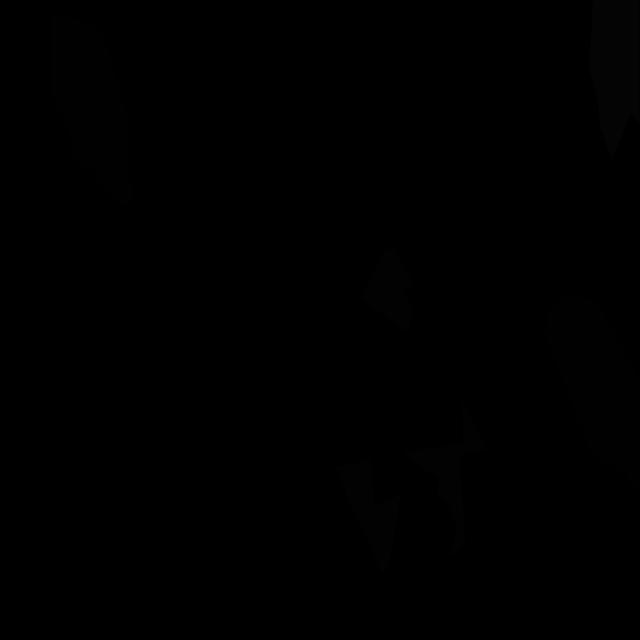cardboard: (402, 398, 487, 557), (335, 458, 401, 573), (360, 248, 415, 333)
rigid_plastic: (546, 293, 640, 488), (51, 15, 134, 207)
soft_plastic: (589, 0, 640, 160)
